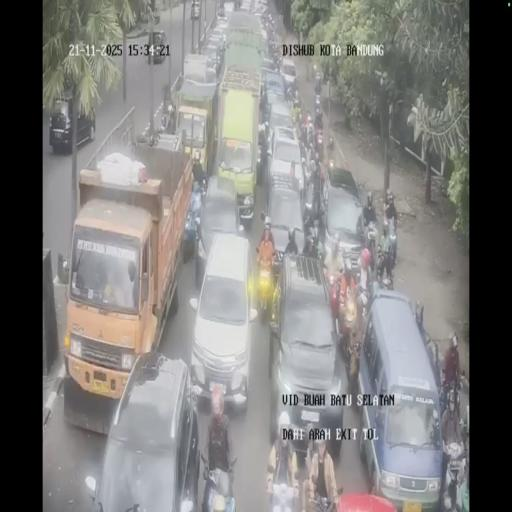car: (355, 288, 441, 502), (90, 350, 200, 508), (267, 254, 344, 453), (194, 173, 244, 284), (320, 169, 368, 273), (262, 182, 306, 273), (265, 102, 296, 156), (202, 41, 224, 76), (146, 29, 167, 64), (259, 26, 269, 60), (261, 54, 276, 73), (250, 0, 266, 16), (215, 4, 229, 22), (239, 0, 253, 13), (191, 0, 200, 19)
motorcycle: (441, 441, 467, 510), (254, 254, 278, 322), (302, 174, 326, 239), (268, 473, 300, 511), (440, 372, 462, 421), (384, 216, 398, 270), (365, 221, 379, 273), (259, 84, 271, 132), (356, 280, 370, 320), (377, 261, 394, 291), (298, 133, 310, 164), (314, 128, 324, 161), (286, 82, 296, 106), (314, 94, 322, 119), (314, 72, 322, 94)
truck: (173, 72, 218, 180)
